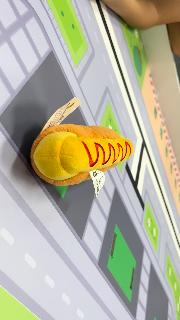hotdog: (29, 123, 134, 187)
